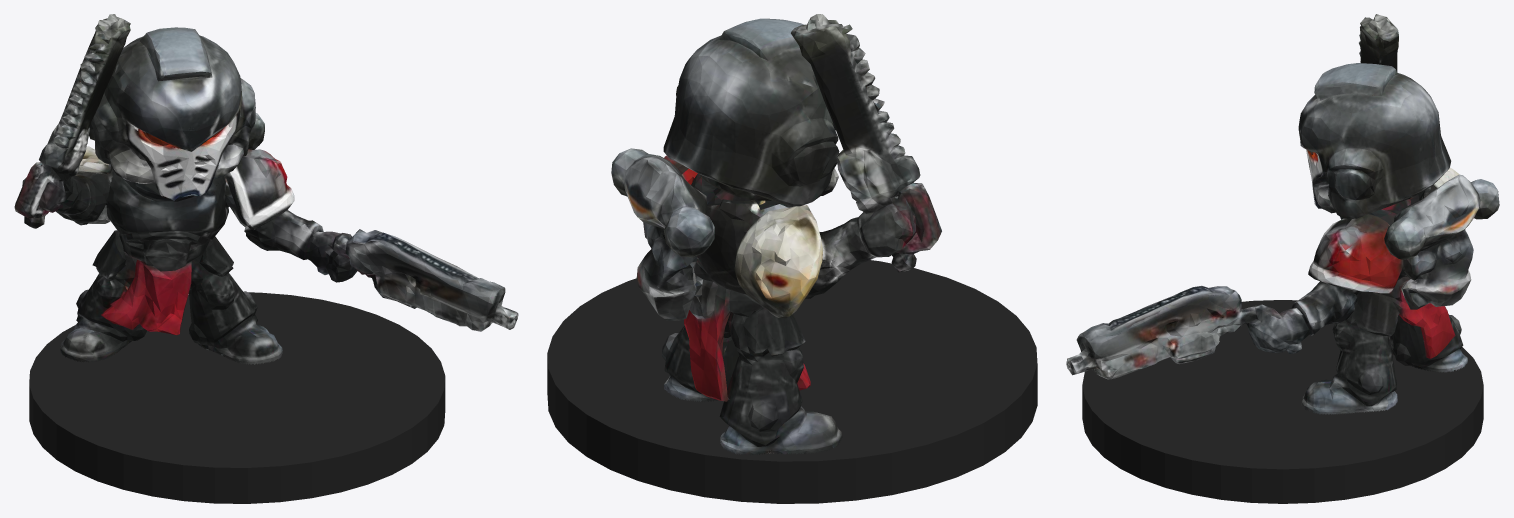
The model's file is crusader-initiate-chainsword.glb.
3 views of the same model, side by side, from view 1: azimuth 30°, elevation 25°; view 2: azimuth 150°, elevation 25°; view 3: azimuth 270°, elevation 25° (orthographic). The views are drawn at different scales.
Visible parts, largest first — view 1: figure, base; view 2: figure, base; view 3: figure, base.
Part boxes in pixels (x1=…): figure: x1=14, y1=14, x2=518, y2=364; base: x1=29, y1=292, x2=445, y2=503; figure: x1=611, y1=14, x2=941, y2=455; base: x1=547, y1=260, x2=1037, y2=503; figure: x1=1066, y1=14, x2=1499, y2=414; base: x1=1082, y1=300, x2=1483, y2=503.
Size of the model in its own units: 1.26 by 1.27 by 1.36.
2 materials, 1 textured.
